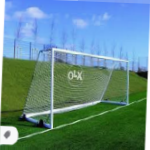goals: (18, 45, 131, 128)
